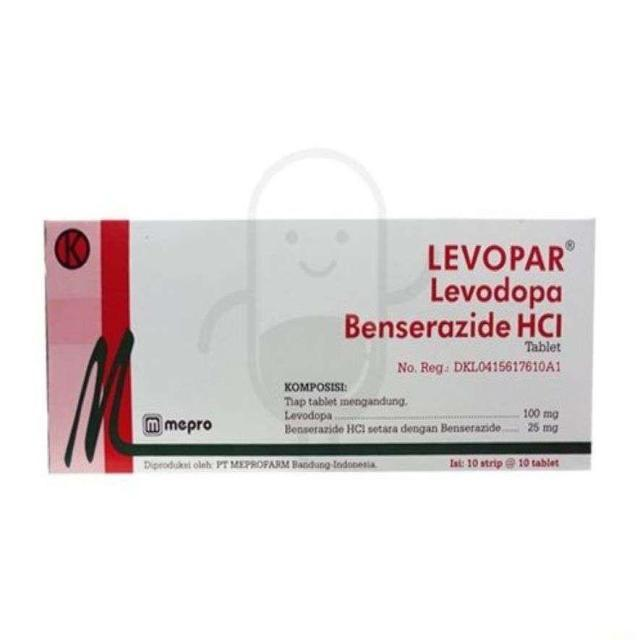drug-name: (427, 235, 578, 272)
